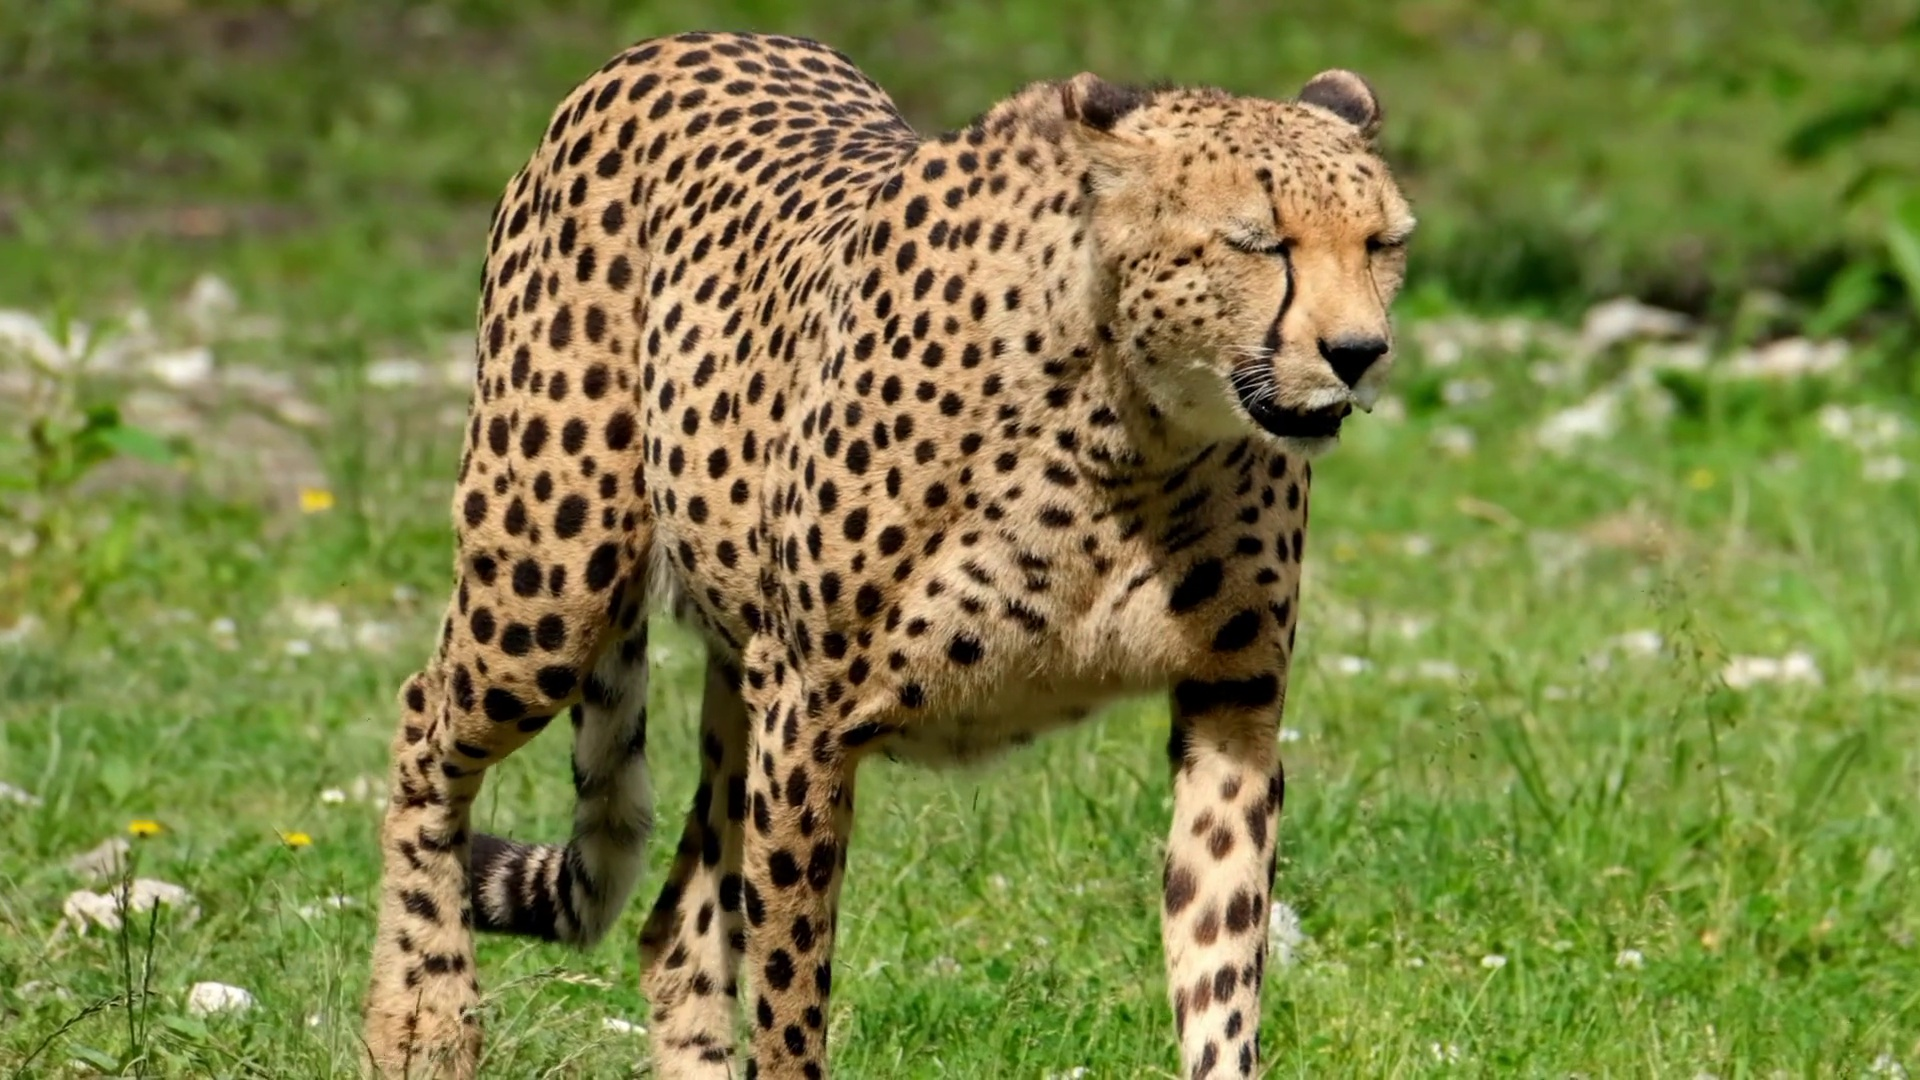Cheetah: (349, 30, 1423, 1080)
